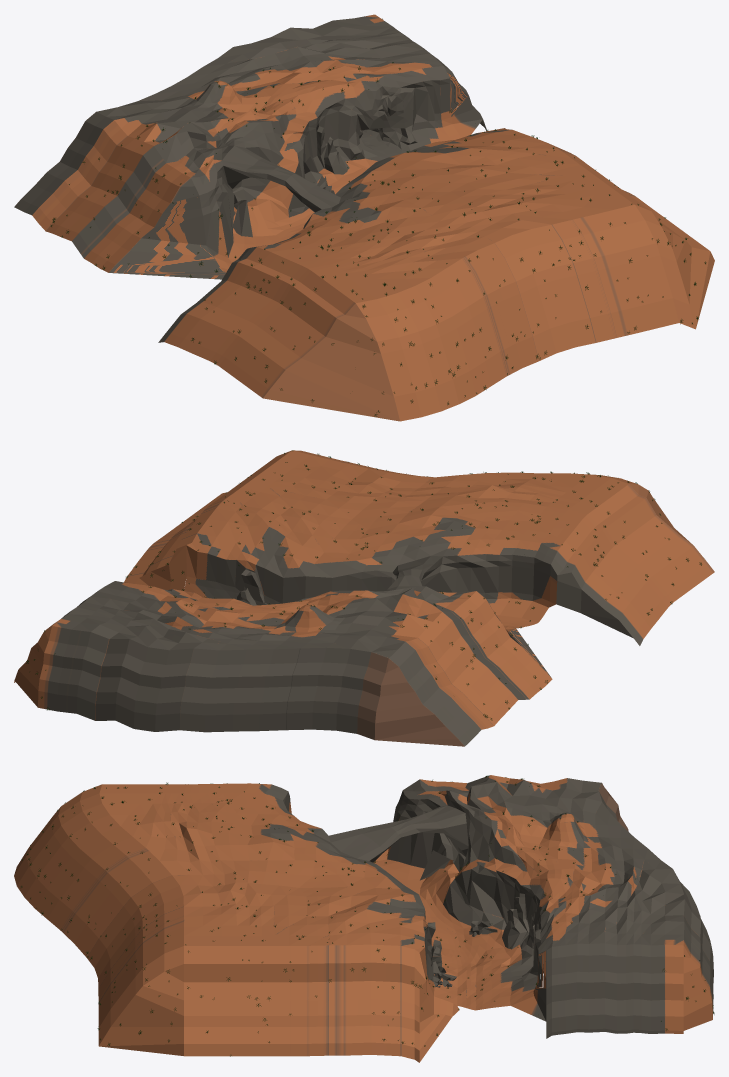
Rendered from ground2.obj.
3 renders of one model, top to bottom at view 1: azimuth 30°, elevation 25°; view 2: azimuth 150°, elevation 25°; view 3: azimuth 270°, elevation 25°, orthographic. The views are drawn at different scales.
Visible parts, largest first — view 1: ground, grass; view 2: ground, grass; view 3: ground, grass.
Part boxes in pixels (left/top/right/bottom): ground: left=14, top=14, right=714, bottom=421; grass: left=50, top=18, right=706, bottom=416; ground: left=14, top=450, right=714, bottom=746; grass: left=26, top=450, right=701, bottom=720; ground: left=14, top=775, right=713, bottom=1062; grass: left=21, top=775, right=714, bottom=1056.
Size of the model in its own units: 51.58 by 12.59 by 64.1.
